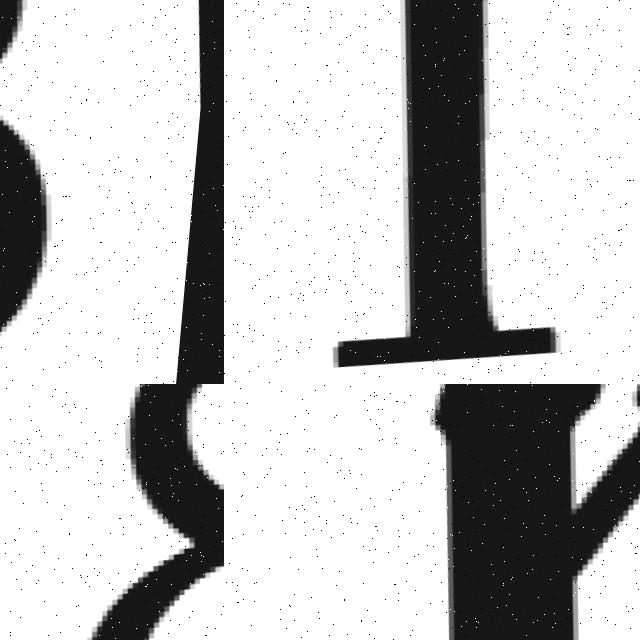1: (285, 0, 607, 371)
8: (31, 384, 224, 640), (0, 0, 101, 384)
X: (233, 384, 640, 640)
